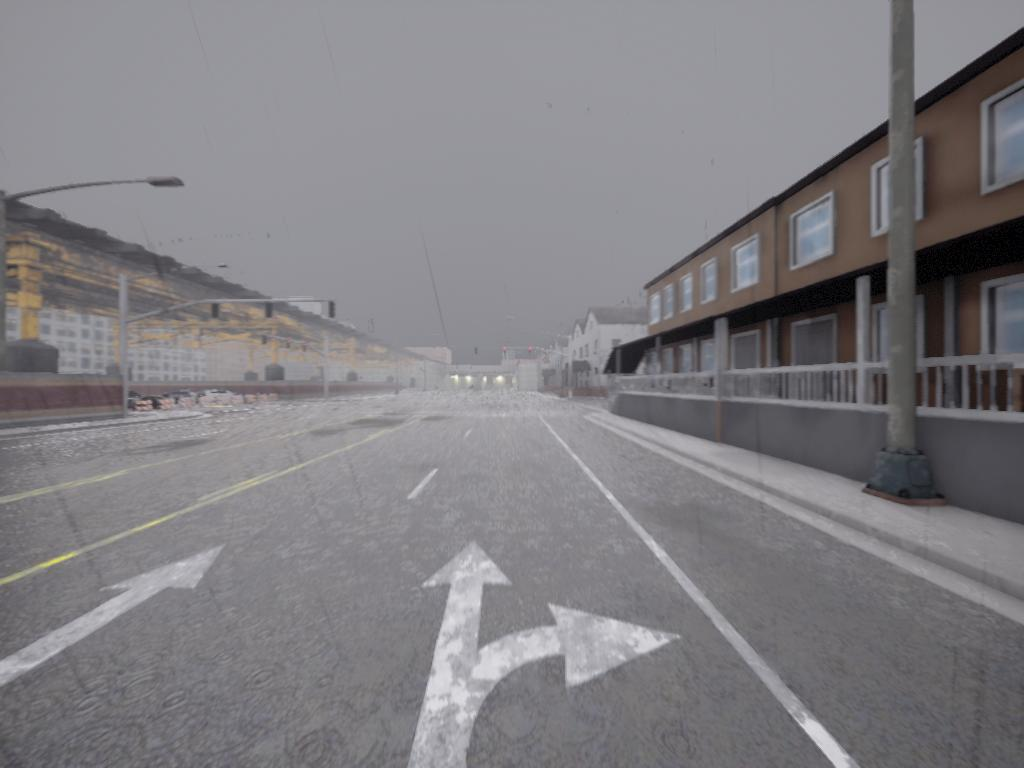traffic_light: (212, 301, 221, 322), (329, 302, 336, 323), (266, 303, 273, 321), (504, 348, 508, 358), (475, 348, 479, 357), (529, 348, 532, 358)
